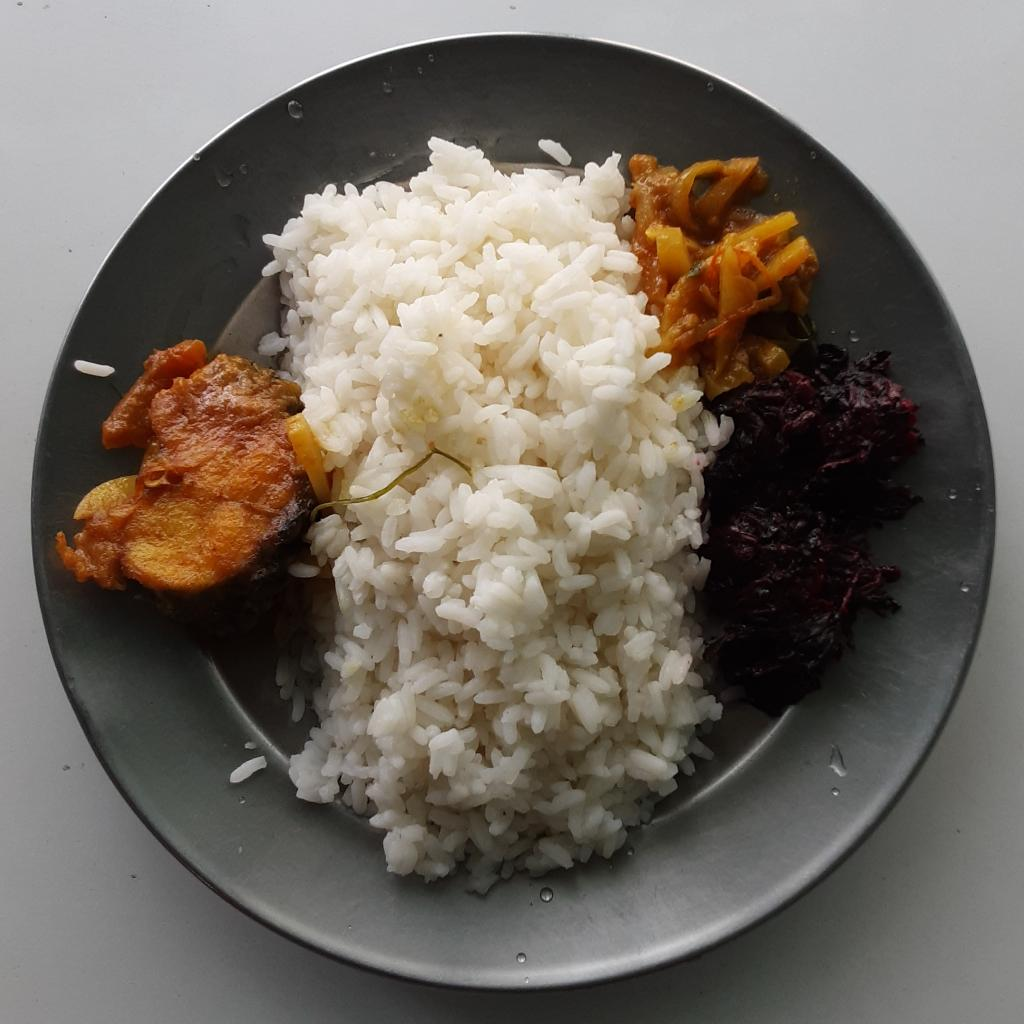fish: (54, 339, 329, 629)
lal-shak: (701, 335, 923, 717)
rice: (231, 129, 735, 889)
vegetable: (629, 155, 820, 403)
